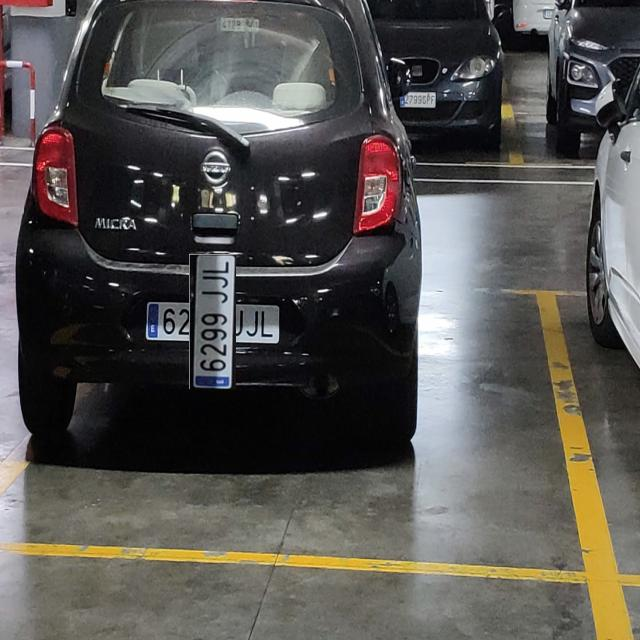License-Plate: (167, 276, 258, 367)
